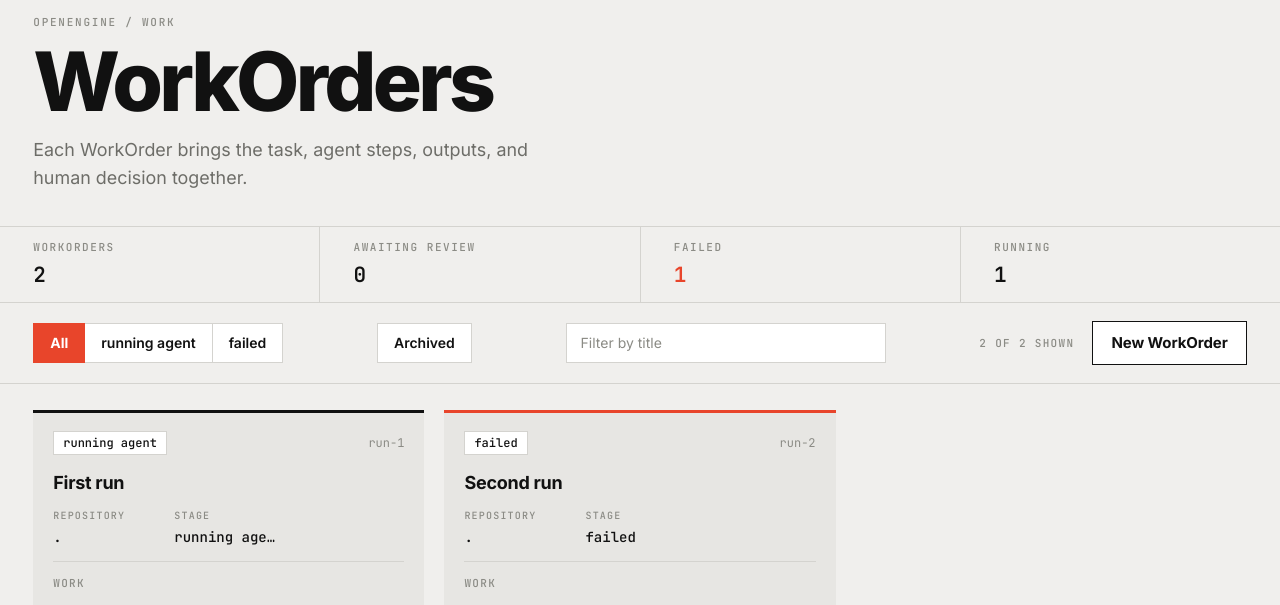
it: RunsPage › narrows the list by title and says so when nothing matches
This screenshot has width=1280, height=605.
Type "second" into the search field named "Filter WorkOrders by title".
click(726, 343); type("second")  # box [566, 323, 886, 363]
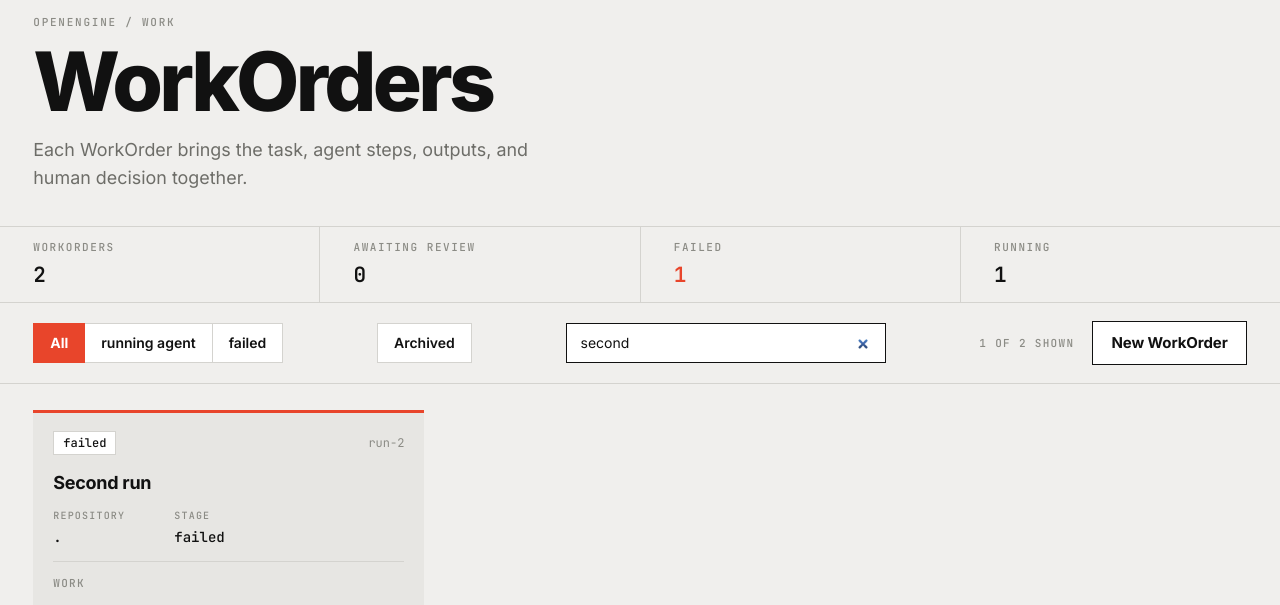
Expected: the heading "Second run" is shown, [53, 472, 151, 493]
Result: the text "1 of 2 shown" is shown at [979, 335, 1074, 351]
Replace the text in the search field named "Filter WorkOrders by title" with "third" at (726, 343), box [566, 323, 886, 363]
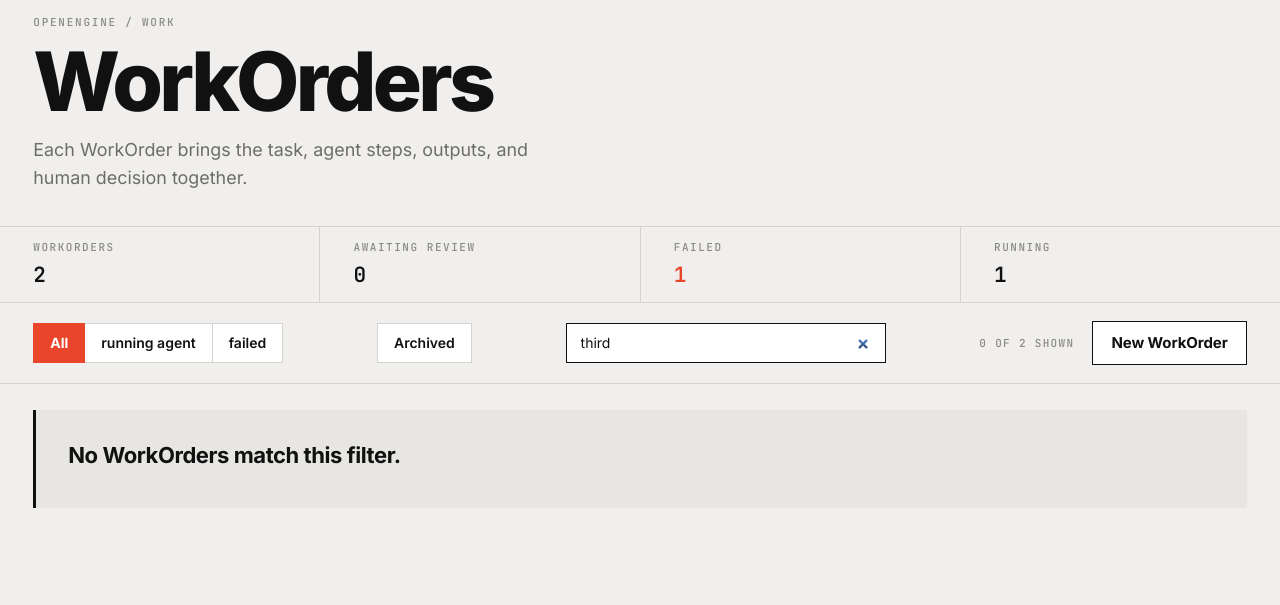
Result: the heading "No WorkOrders match this filter." is shown at [68, 442, 401, 468]
Result: the text "0 of 2 shown" is shown at [979, 335, 1074, 351]
